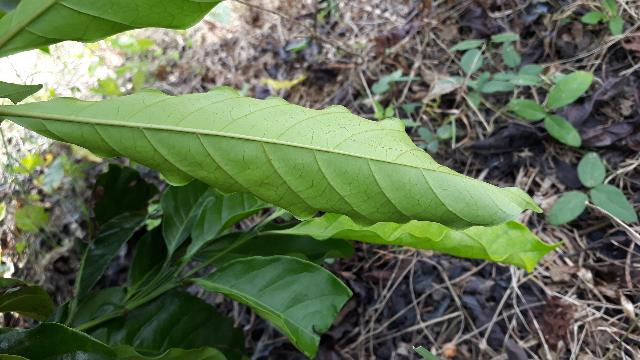healthy: (1, 85, 542, 231)
